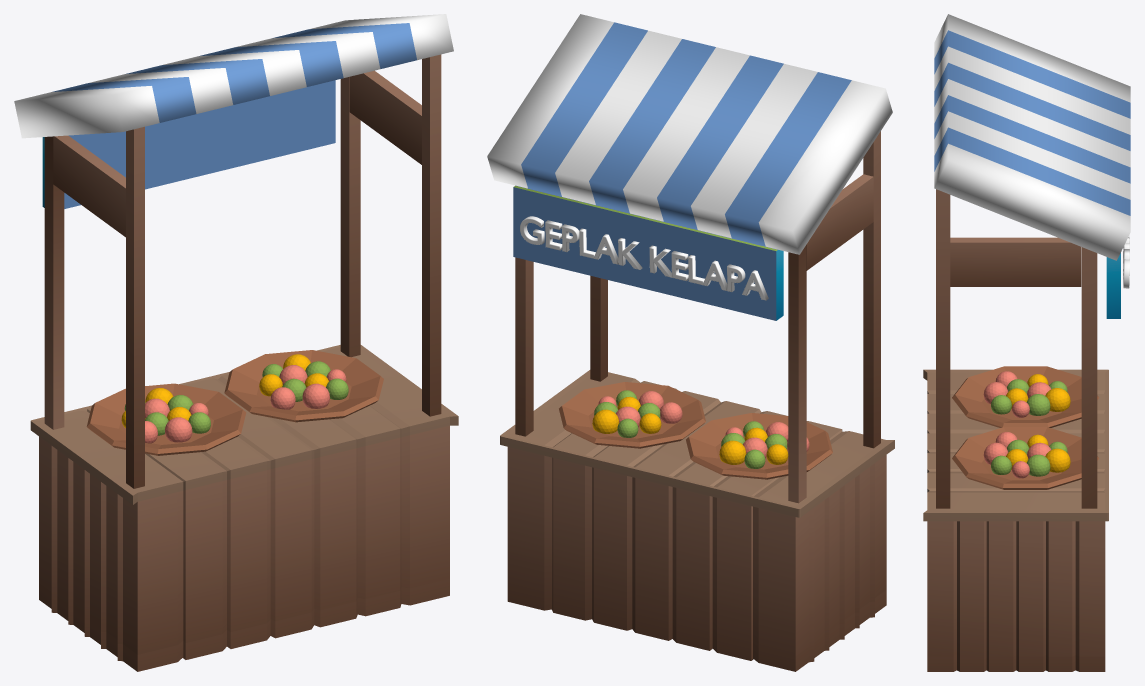
The model's file is Tenant Geplak Kelapa.fbx.
3 views of the same model, side by side, from view 1: azimuth 30°, elevation 25°; view 2: azimuth 150°, elevation 25°; view 3: azimuth 270°, elevation 25° (orthographic). The views are drawn at different scales.
Parts seen in each view (by area): view 1: Cube.031, Cube.079, Cube.093, Cube.089, Cube.086, Cube.088, Cylinder.005, Cube.087, Cylinder.006, Cube.091, Cube.092, Icosphere.007 (+1 smaller); view 2: Cube.031, Cube.079, Cube.093, Cube.086, Cube.088, Text.001, Cylinder.005, Cylinder.006, Cube.087, Cube.091, Icosphere.007, Icosphere.001 (+1 smaller); view 3: Cube.031, Cube.079, Cube.092, Cube.089, Cube.087, Cylinder.005, Cylinder.006, Icosphere.007, Icosphere.001, Cube.093, Text.001.
Boxes of the visible parts, box(x1,y1,x2,y2) form: Cube.031: box(30, 345, 458, 671); Cube.079: box(14, 14, 453, 138); Cube.093: box(42, 80, 335, 208); Cube.089: box(422, 54, 441, 416); Cube.086: box(126, 126, 144, 488); Cube.088: box(44, 136, 64, 429); Cylinder.005: box(224, 350, 383, 422); Cube.087: box(340, 77, 360, 357); Cylinder.006: box(86, 383, 246, 455); Cube.091: box(53, 135, 125, 237); Cube.092: box(349, 70, 421, 164); Icosphere.007: box(259, 354, 348, 409); Cube.031: box(500, 370, 894, 671); Cube.079: box(487, 14, 892, 254); Cube.093: box(513, 185, 783, 320); Cube.086: box(863, 131, 880, 448); Cube.088: box(788, 245, 806, 503); Text.001: box(520, 216, 768, 300); Cylinder.005: box(559, 382, 705, 448); Cylinder.006: box(686, 413, 832, 479); Cube.087: box(515, 257, 533, 436); Cube.091: box(806, 174, 873, 270); Icosphere.007: box(592, 390, 682, 437); Icosphere.001: box(719, 421, 809, 468); Cube.031: box(923, 369, 1108, 671); Cube.079: box(934, 14, 1130, 260); Cube.092: box(950, 237, 1081, 286); Cube.089: box(936, 189, 950, 508); Cube.087: box(1081, 247, 1097, 508); Cylinder.005: box(952, 427, 1098, 489); Cylinder.006: box(952, 366, 1098, 427); Icosphere.007: box(983, 432, 1070, 478); Icosphere.001: box(983, 371, 1070, 417); Cube.093: box(1106, 253, 1120, 318); Text.001: box(1123, 235, 1129, 288).
Size of the model in its own units: 425 by 701 by 255.
